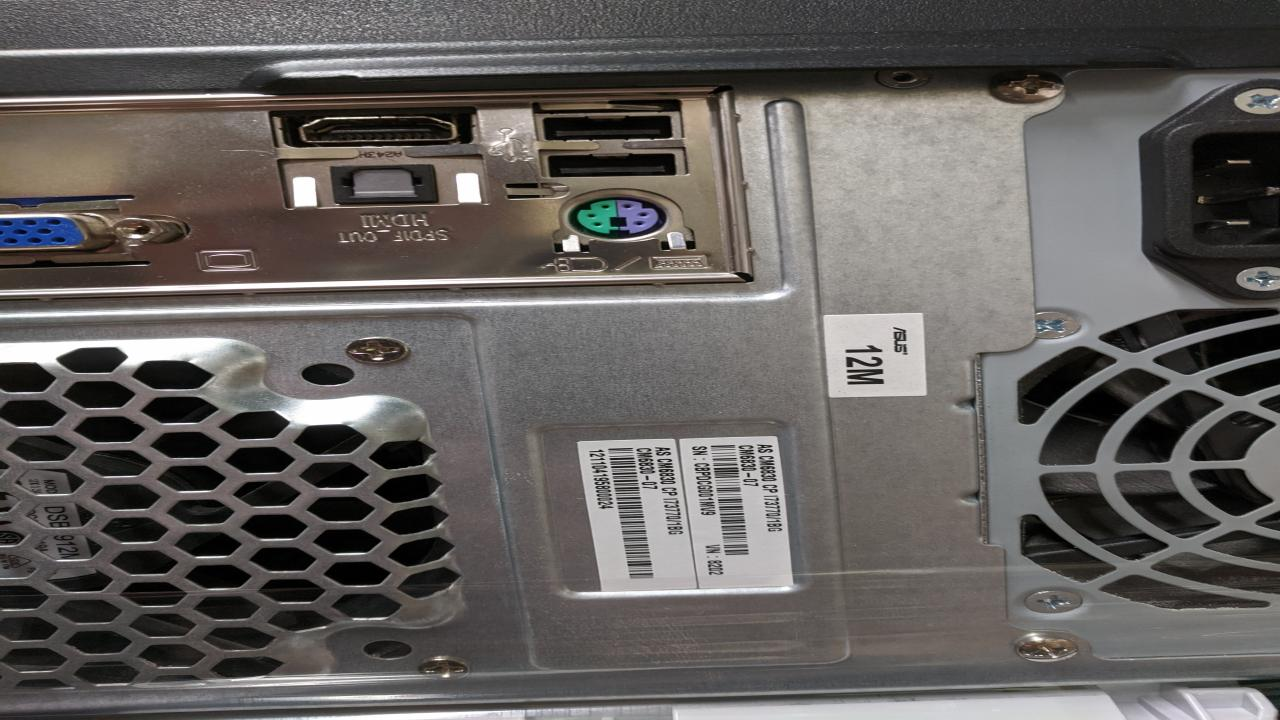CRS: (988, 68, 1074, 106), (998, 630, 1082, 664), (1014, 307, 1082, 344), (1021, 584, 1084, 617), (346, 336, 414, 365), (1234, 84, 1280, 119), (1229, 265, 1280, 295), (416, 656, 471, 678)
